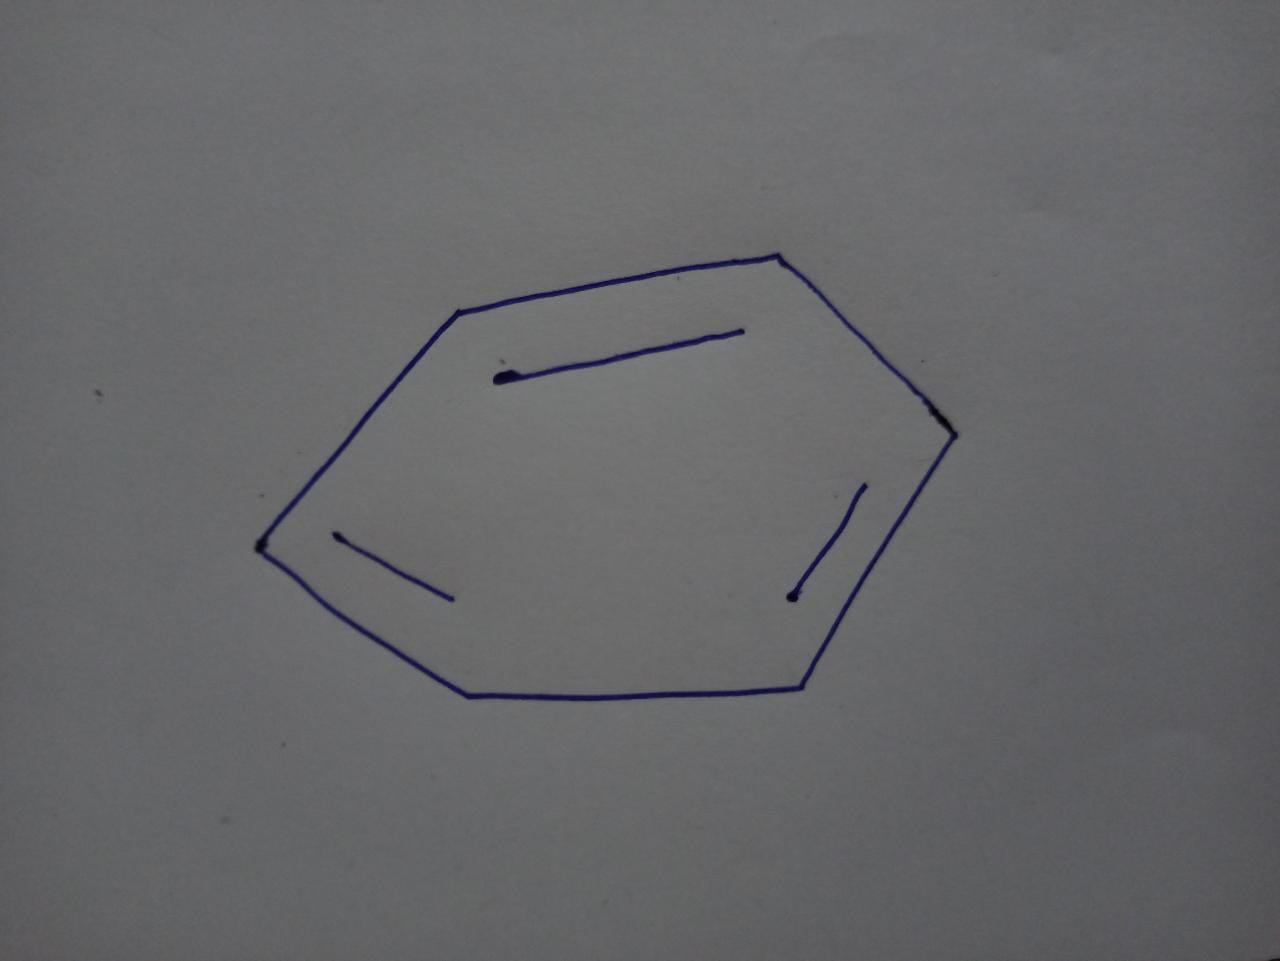shape_mask: (225, 230, 999, 739)
